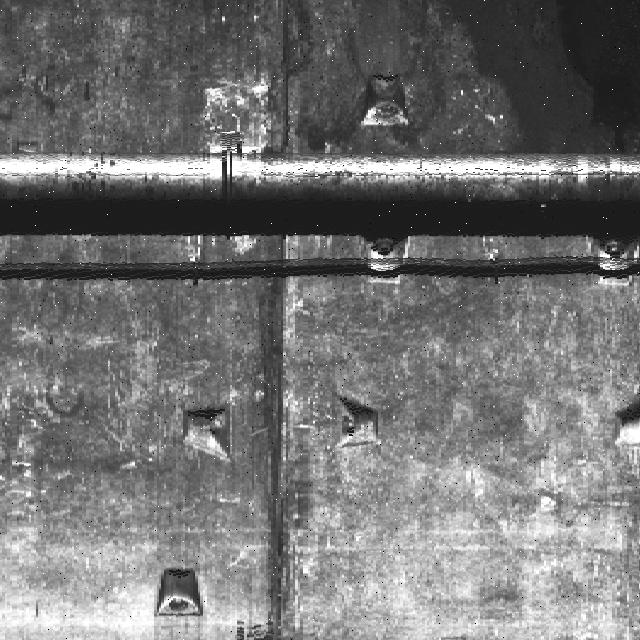leakage: (447, 1, 633, 252)
